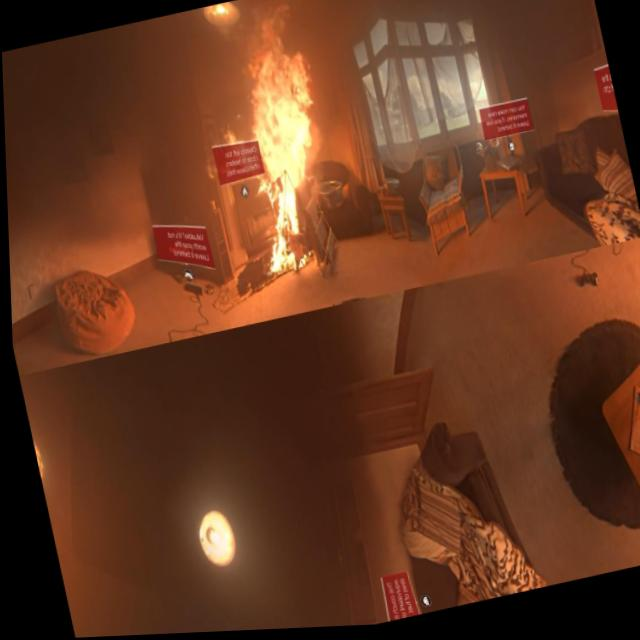fire: (216, 30, 353, 295)
